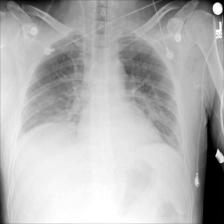normal: (15, 29, 186, 154)
